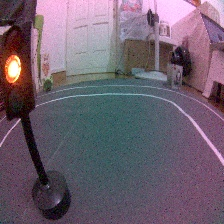amber: (1, 16, 72, 222)
